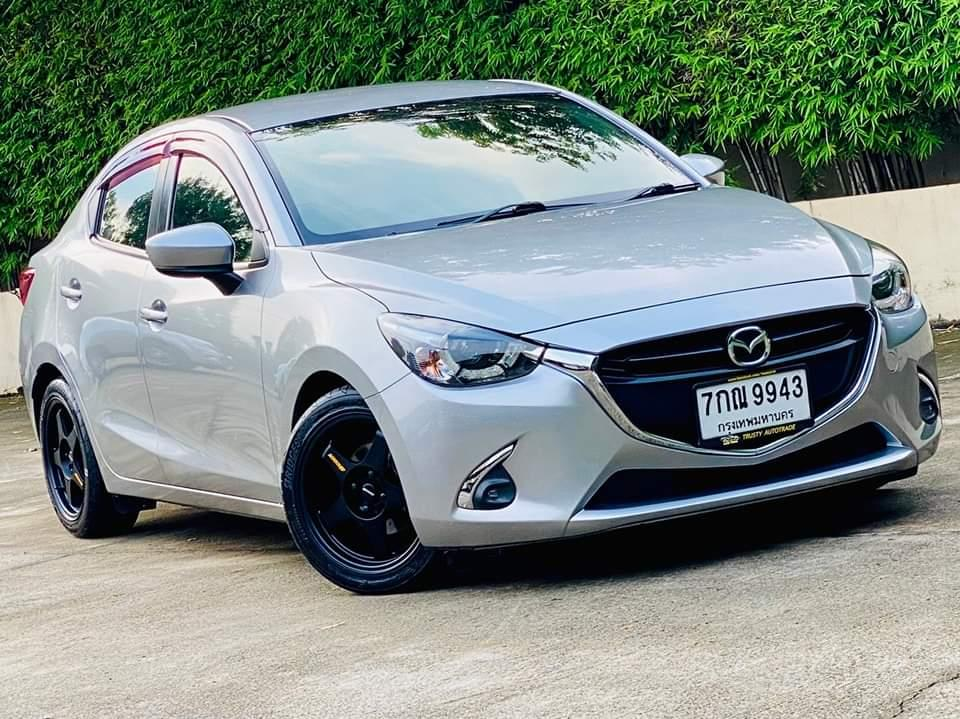license-plate: (687, 362, 823, 454)
